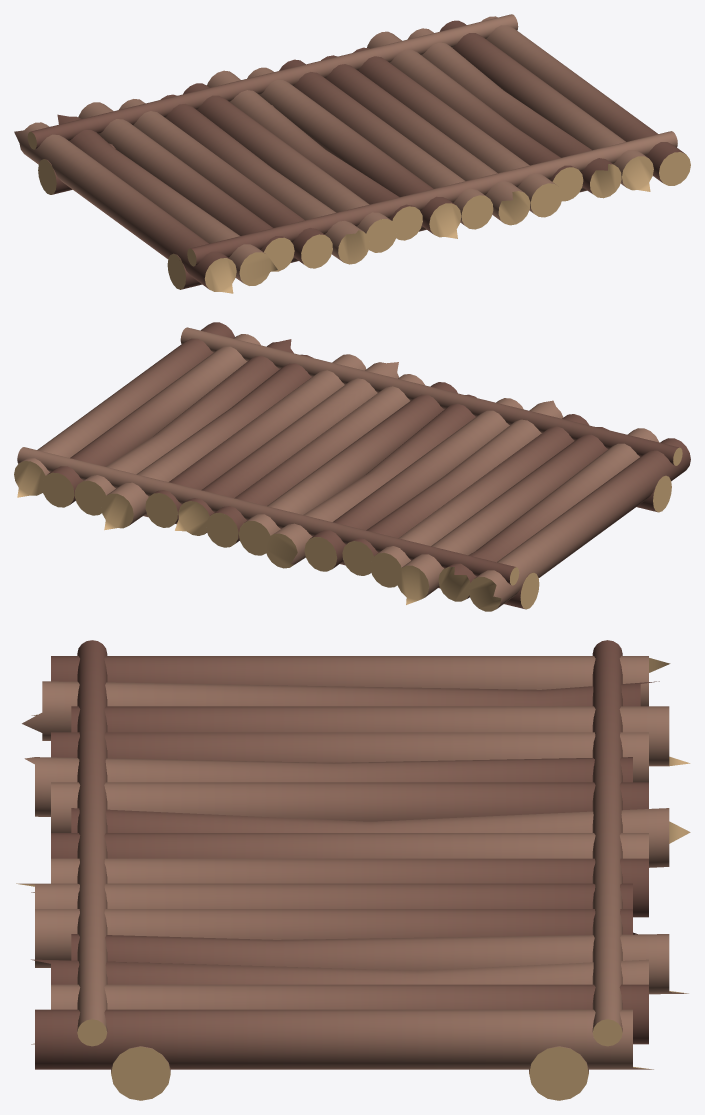
File: Log_Bridge_1.fbx
The picture shows the model from 3 angles, top to bottom: view 1: azimuth 30°, elevation 25°; view 2: azimuth 150°, elevation 25°; view 3: azimuth 270°, elevation 25°; orthographic projection. The views are drawn at different scales.
Visible parts, largest first — view 1: Log_Bridge_1; view 2: Log_Bridge_1; view 3: Log_Bridge_1.
Boxes of the visible parts, x1,y1,x2,y2 form: Log_Bridge_1: (14,14,690,293); Log_Bridge_1: (14,322,690,611); Log_Bridge_1: (16,640,690,1100).
Bounding box in the file's own units: 6 × 0.602 × 4.53.
